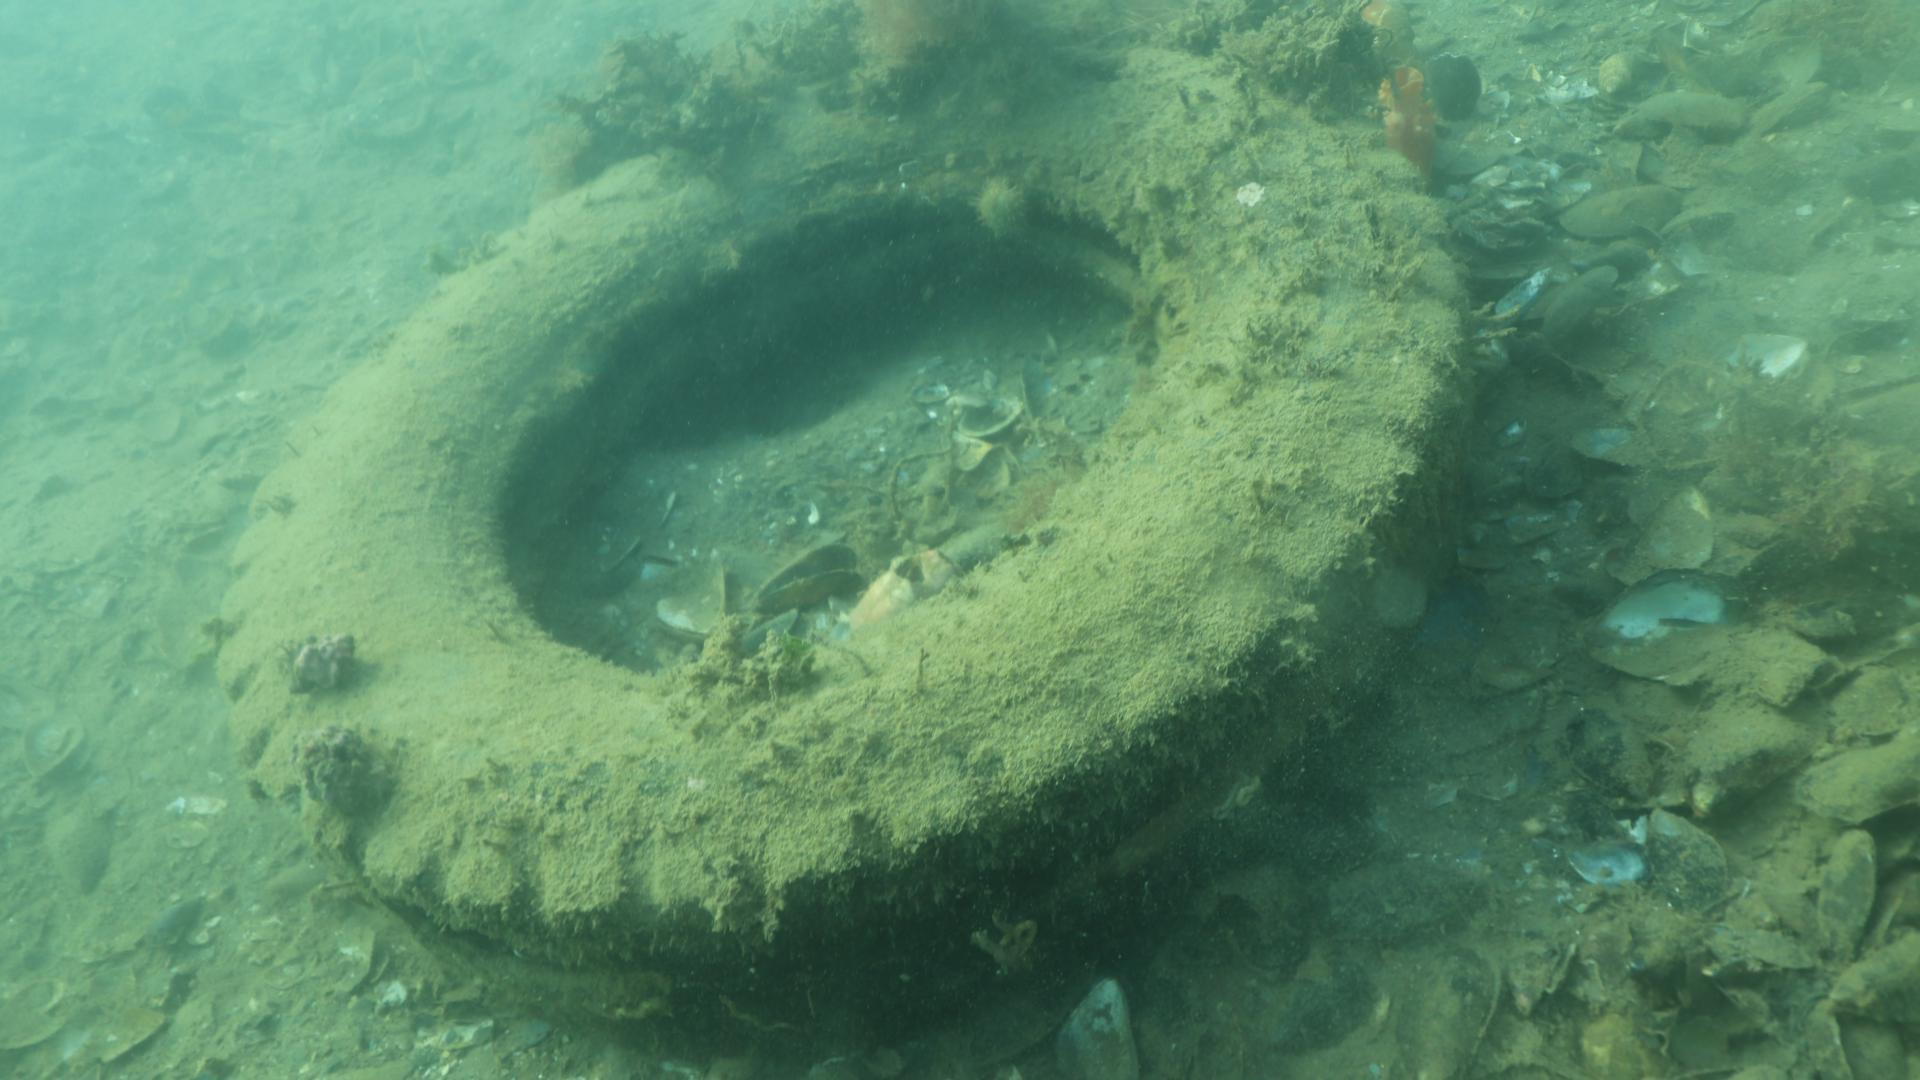tire: (216, 44, 1480, 1055)
